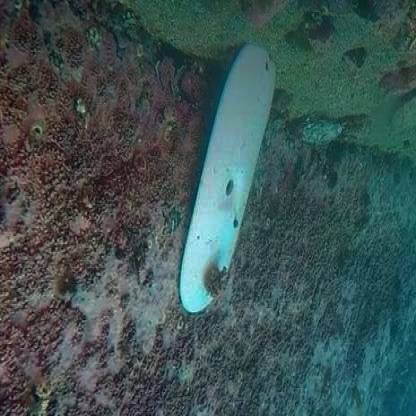electronics: (195, 34, 280, 314)
